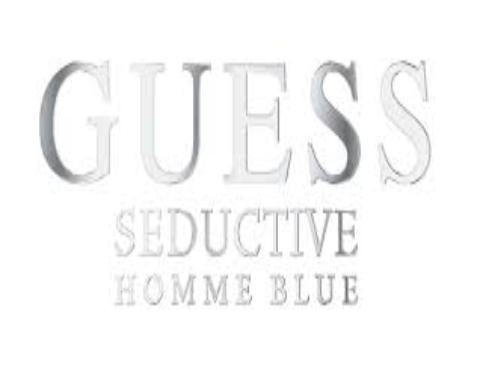GUESS: (36, 55, 436, 196)
